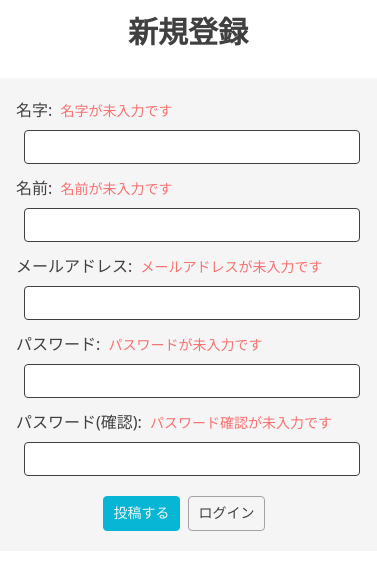
Test: validation › should show alert when an improper email is input
The width and height of the screenshot is (377, 572).
Type "aaaatest.io" into the field with test id "email-input" at (192, 303), box [24,286,360,320]
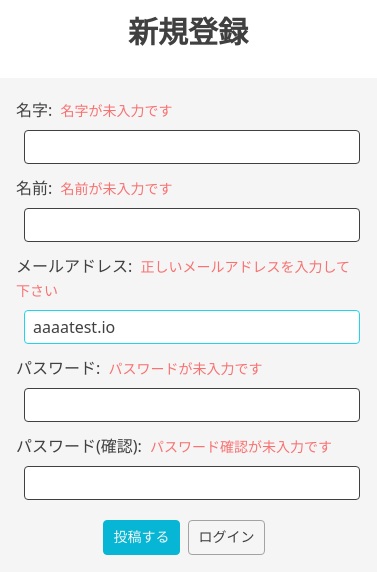
Result: the text "正しいメールアドレスを入力して下さい" is shown at [16,257,350,300]
